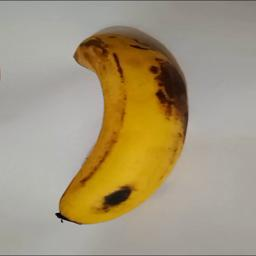Banana Semifresh: (53, 34, 189, 224)
